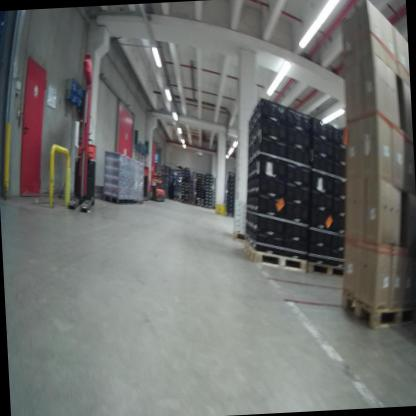pallet: (335, 281, 416, 334), (241, 236, 308, 277), (300, 255, 350, 280), (232, 227, 245, 241)
pallet_truck: (61, 124, 102, 216), (146, 163, 162, 204), (156, 168, 168, 203)
